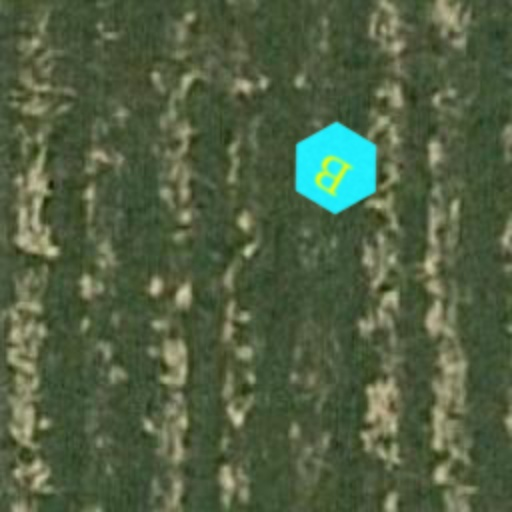hexagon: (272, 104, 400, 232)
